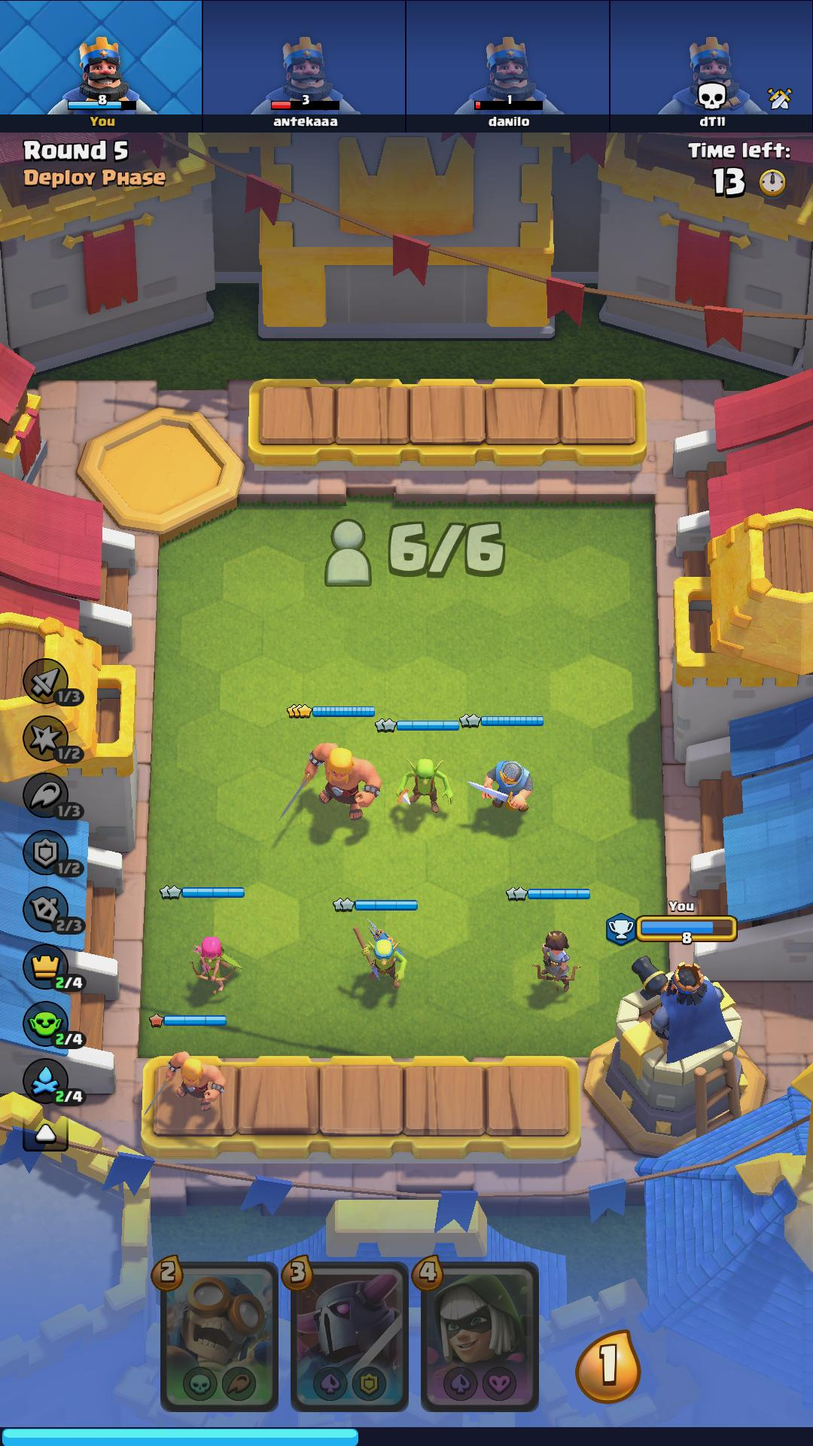archer: (187, 935, 239, 998)
barbarian: (301, 735, 381, 823), (160, 1040, 224, 1112)
goblin: (397, 750, 453, 818)
hand-bandit: (420, 1267, 534, 1406)
hand-bomber: (164, 1264, 274, 1407)
hand-pekka: (290, 1264, 405, 1405)
knight: (477, 751, 534, 814)
princess: (533, 922, 581, 996)
spear: (348, 917, 413, 991)
